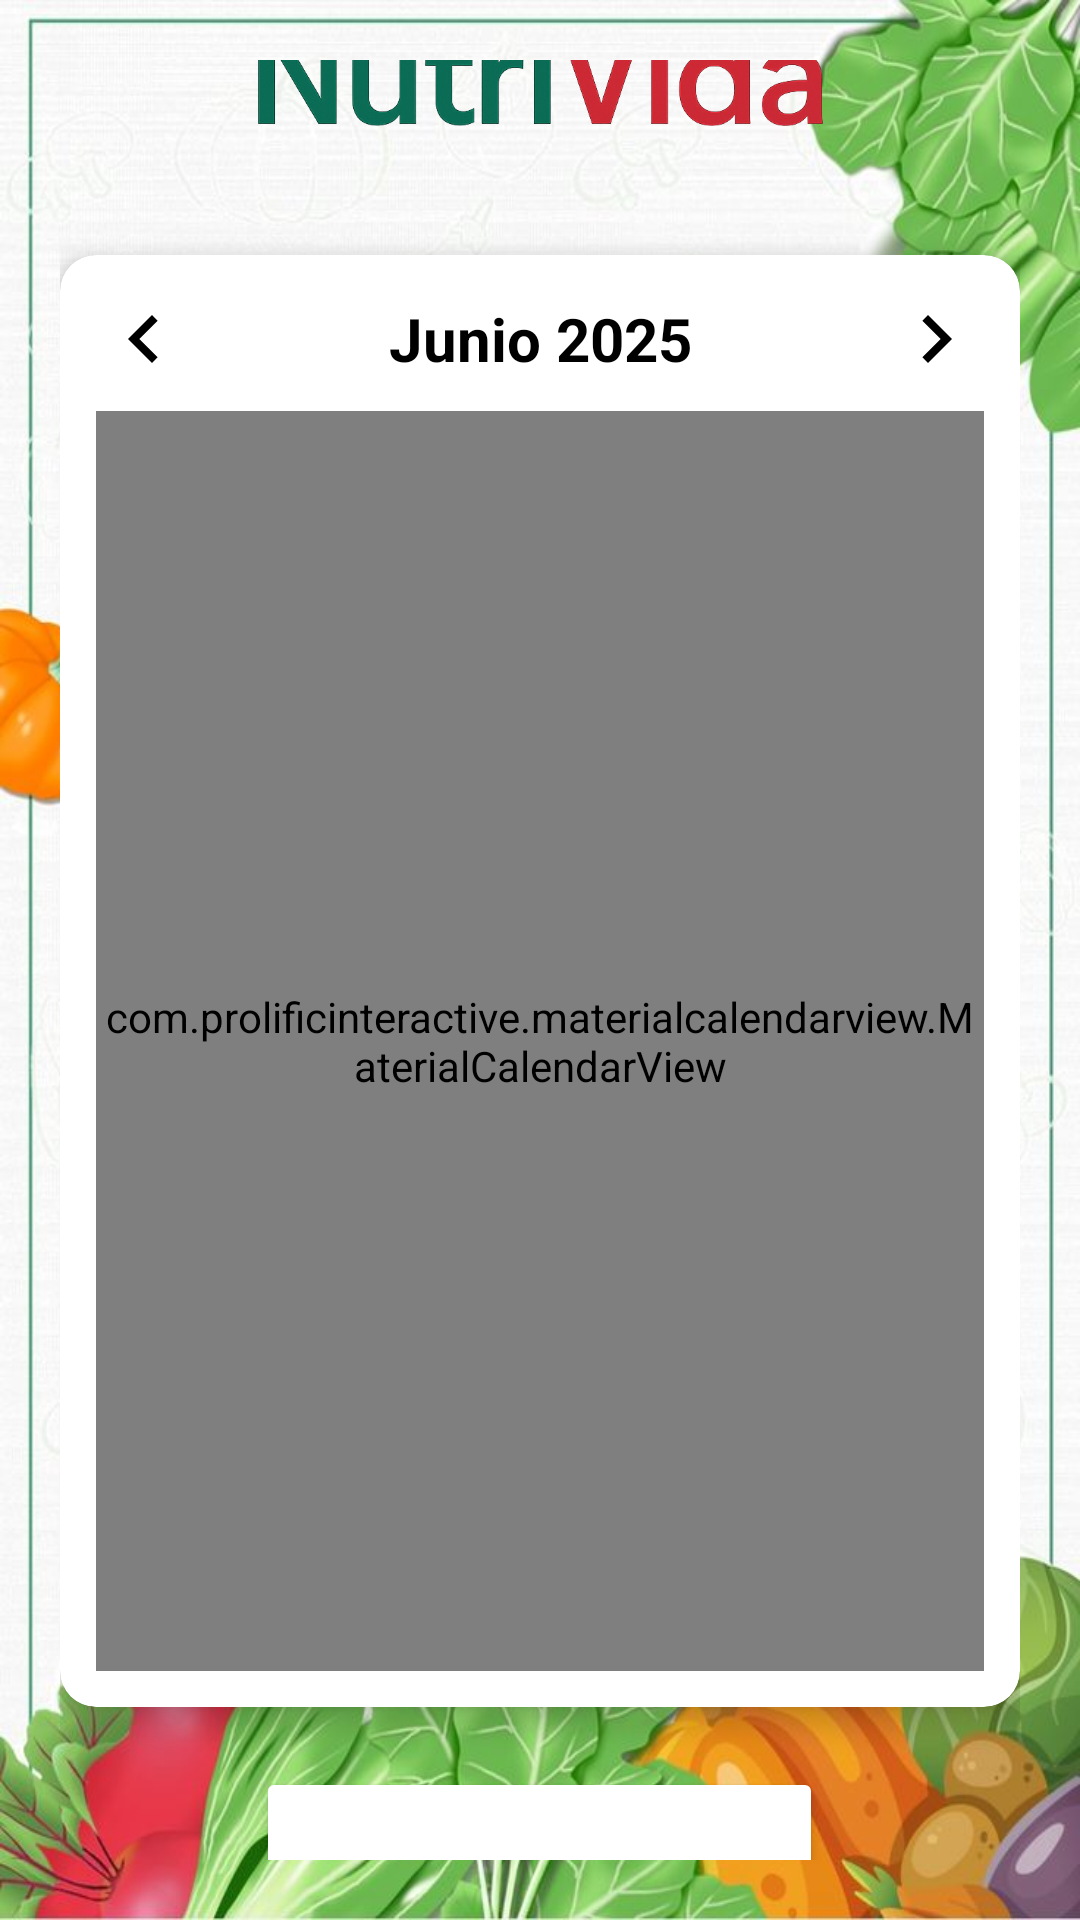

Screen size 1080w x 1920h. Icon name, then its box in pixels as (x1, y1, x2, y2):
Mes anterior: (128, 315, 158, 363)
Mes siguiente: (922, 315, 952, 363)
